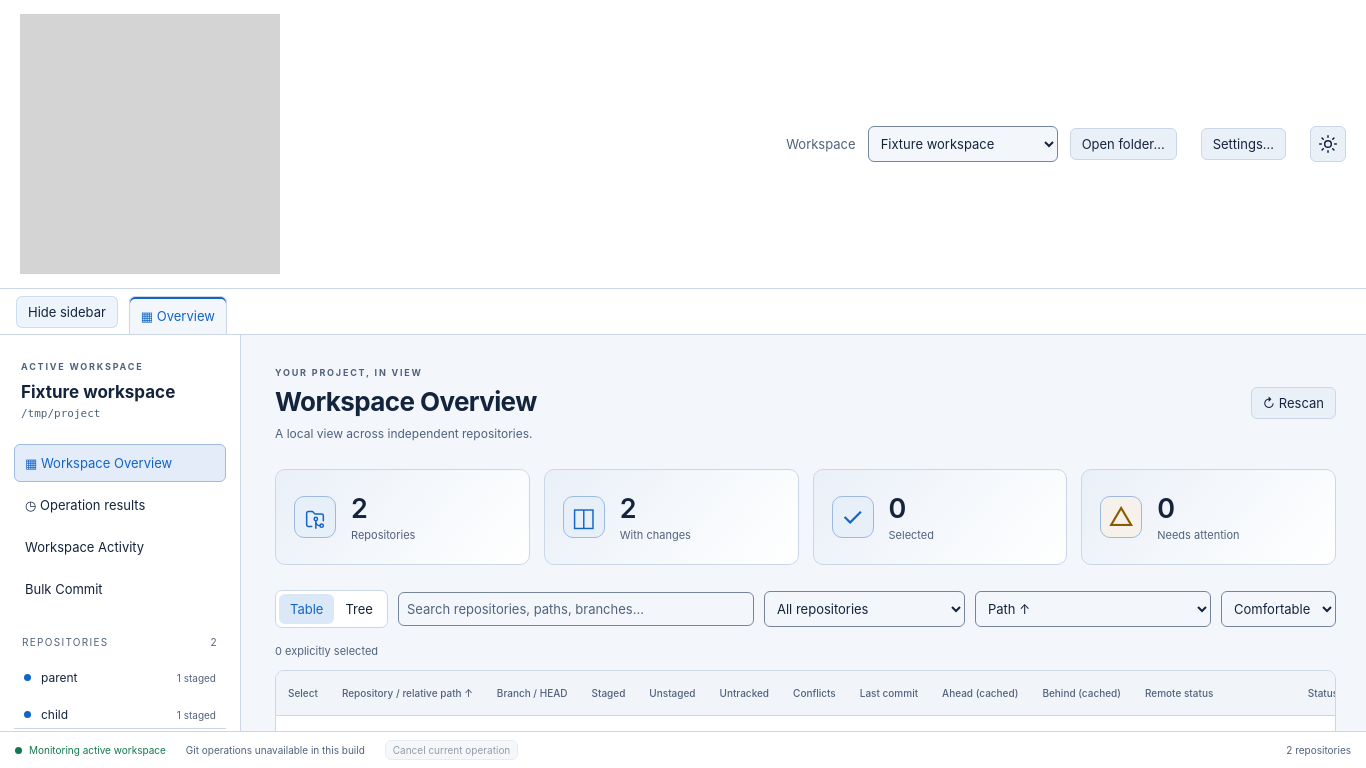
Test: persists tree collapse and attention filters while keeping hidden children selected
This screenshot has width=1366, height=768.
Click the button "Tree" at (359, 609), box [334, 594, 384, 624]
(page scrolled)
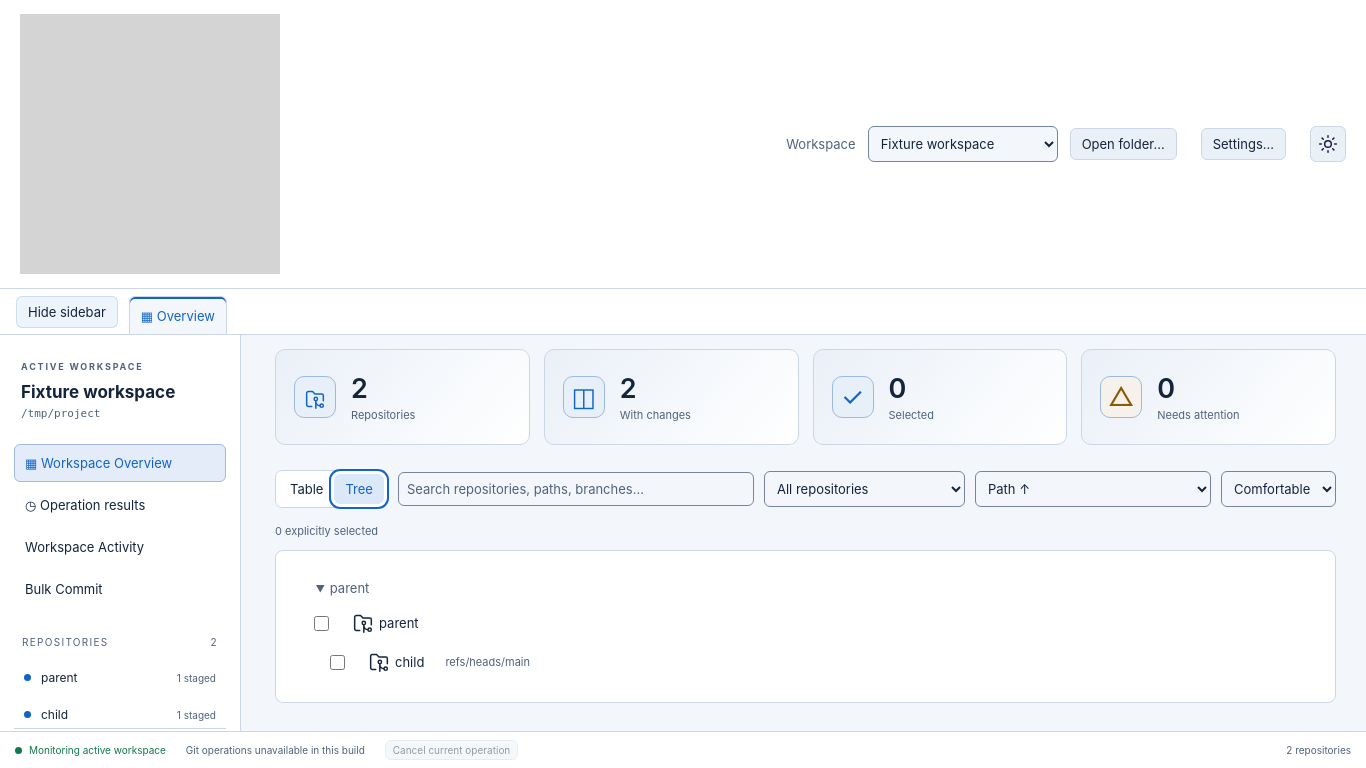
Click the checkbox named "Select child" at (338, 662), box [330, 655, 345, 670]
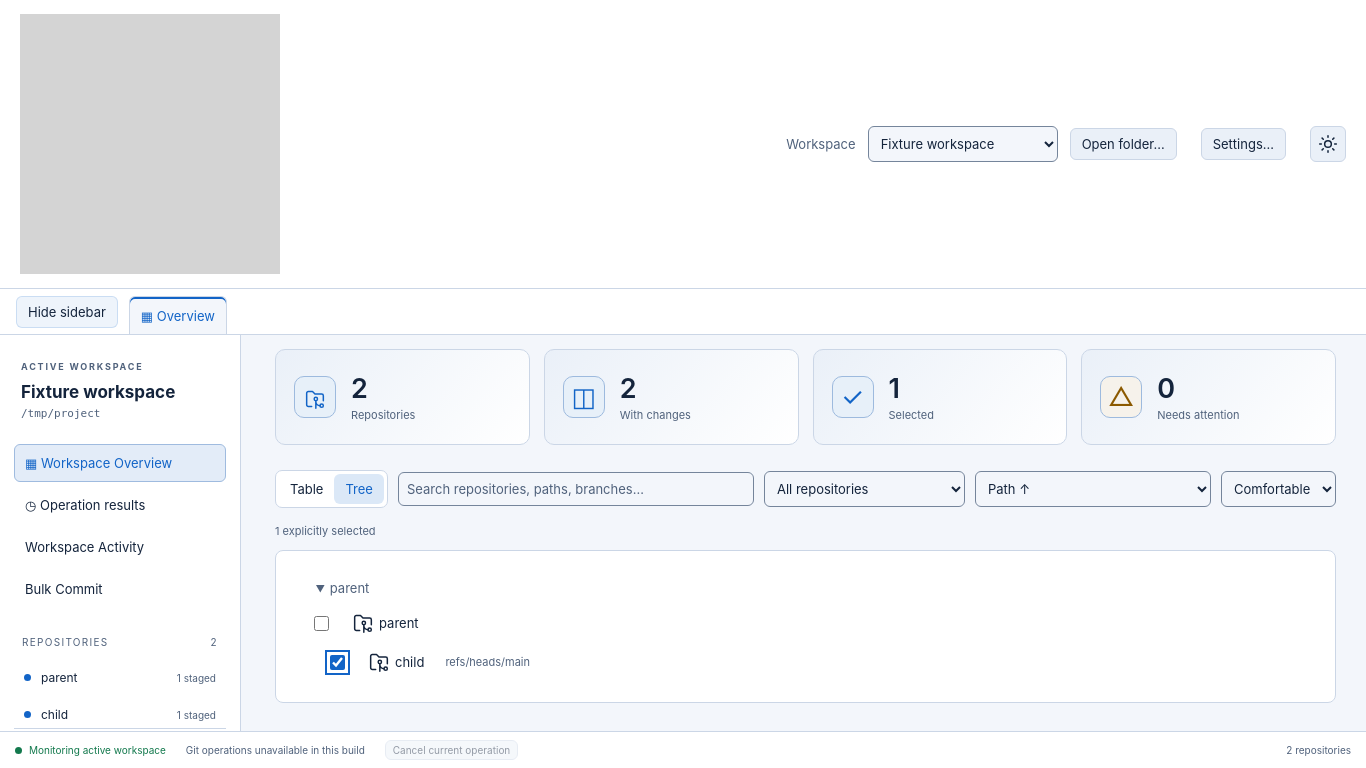
Click the heading "parent" at (350, 588), box [330, 580, 369, 596]
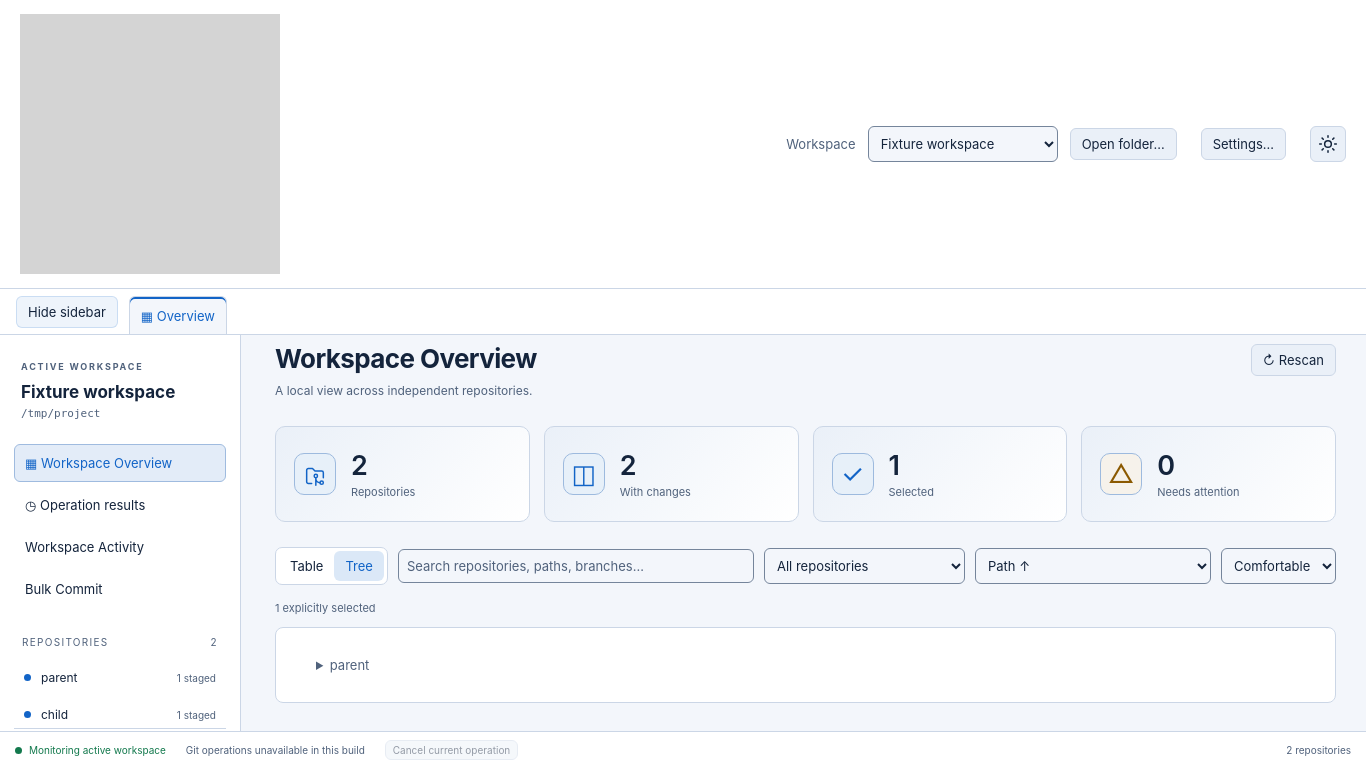
Select "With conflicts" in the dropdown named "Repository attention filter" at (864, 566), box [764, 548, 965, 584]
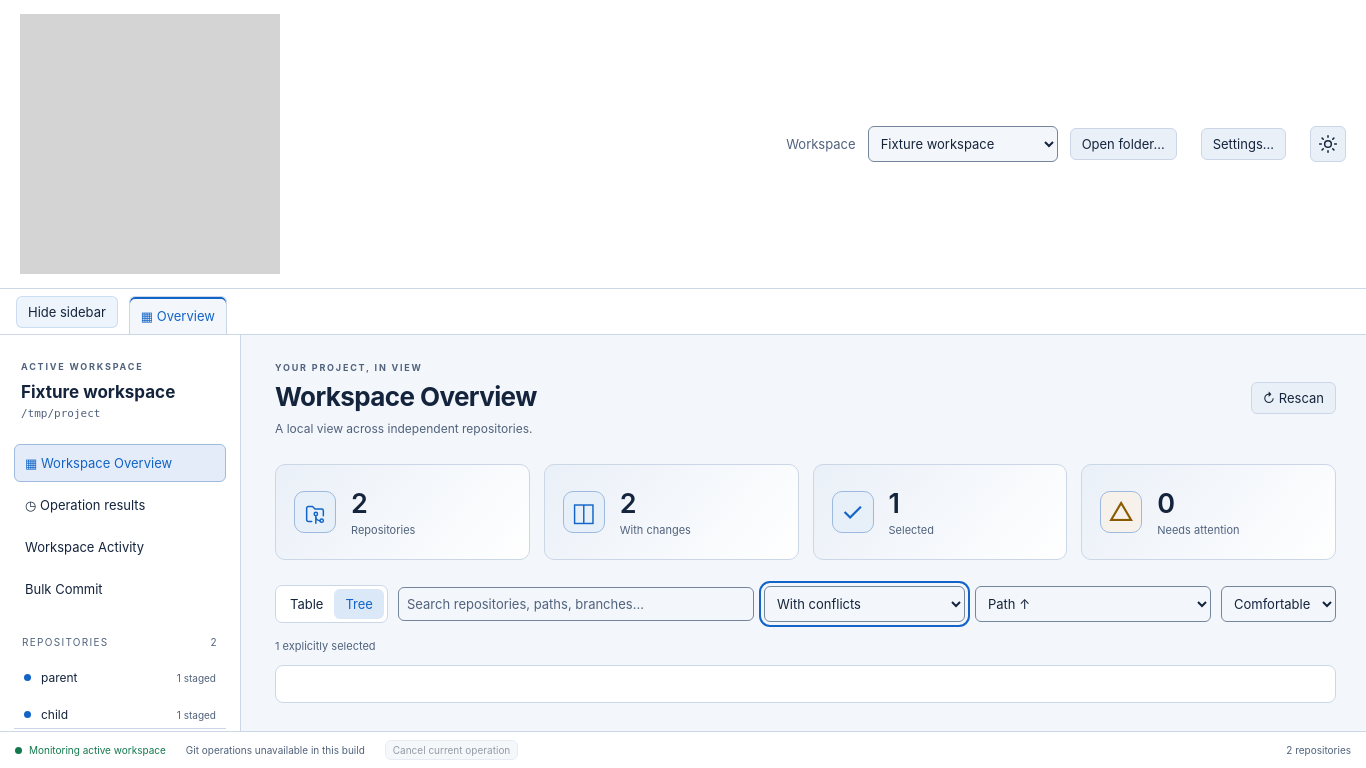
Select "All repositories" in the dropdown named "Repository attention filter" at (864, 604), box [764, 586, 965, 622]
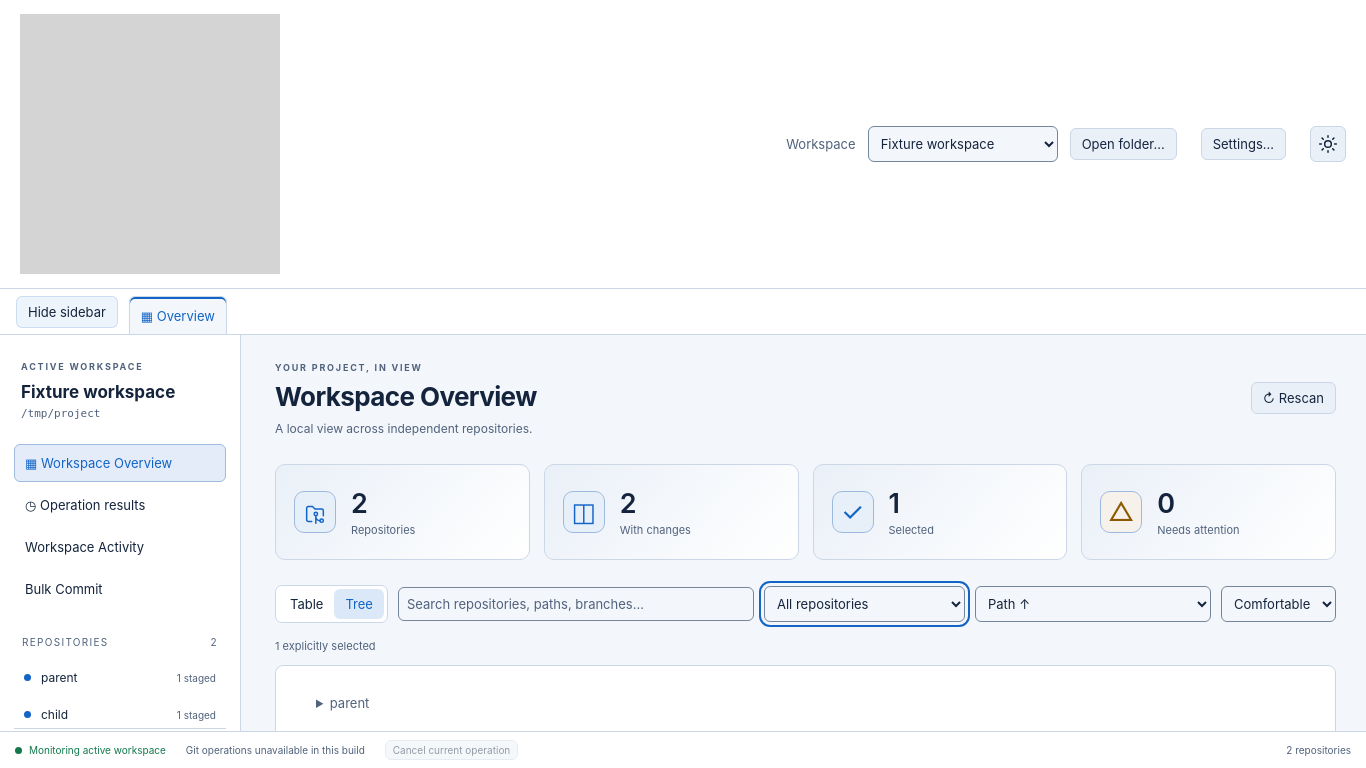
Click the heading "parent" at (350, 703), box [330, 695, 369, 711]
(page scrolled)
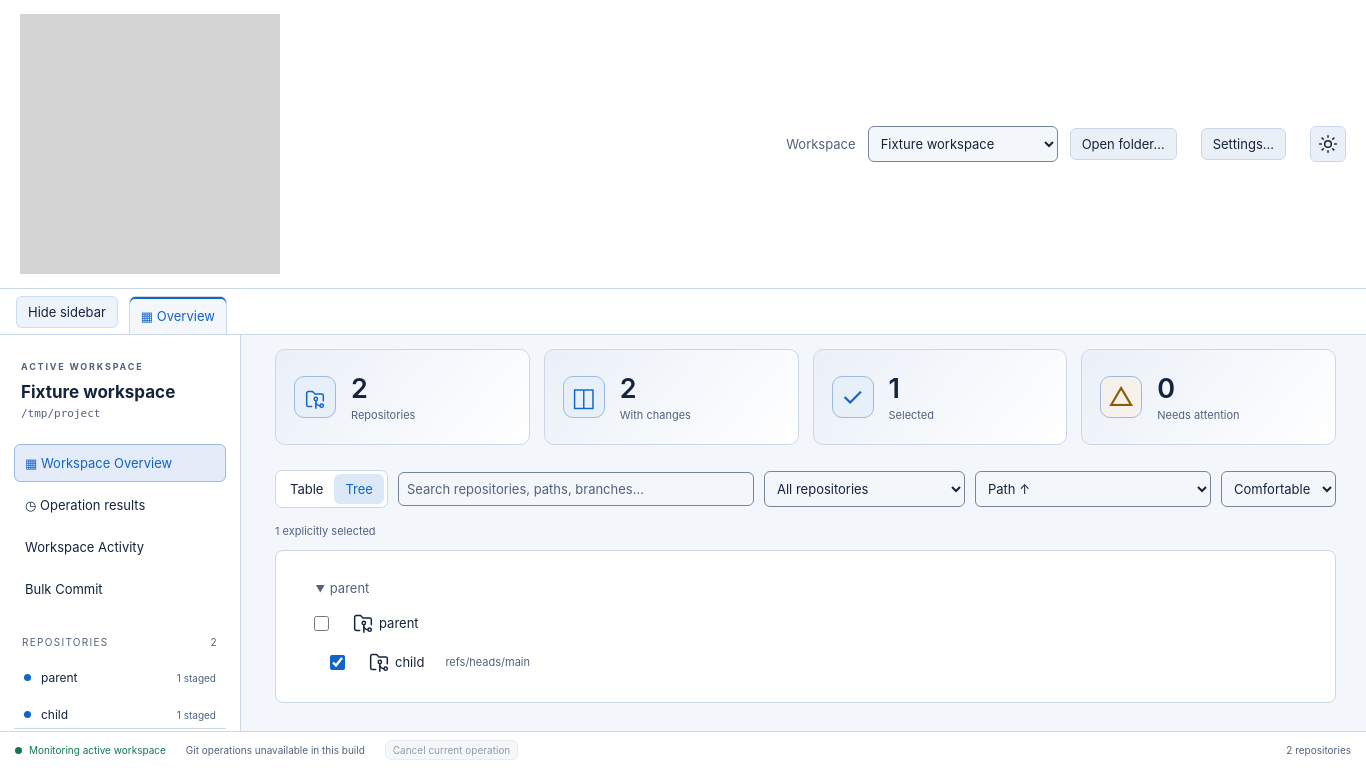
Check: the checkbox named "Select child" is checked, box [330, 655, 345, 670]
